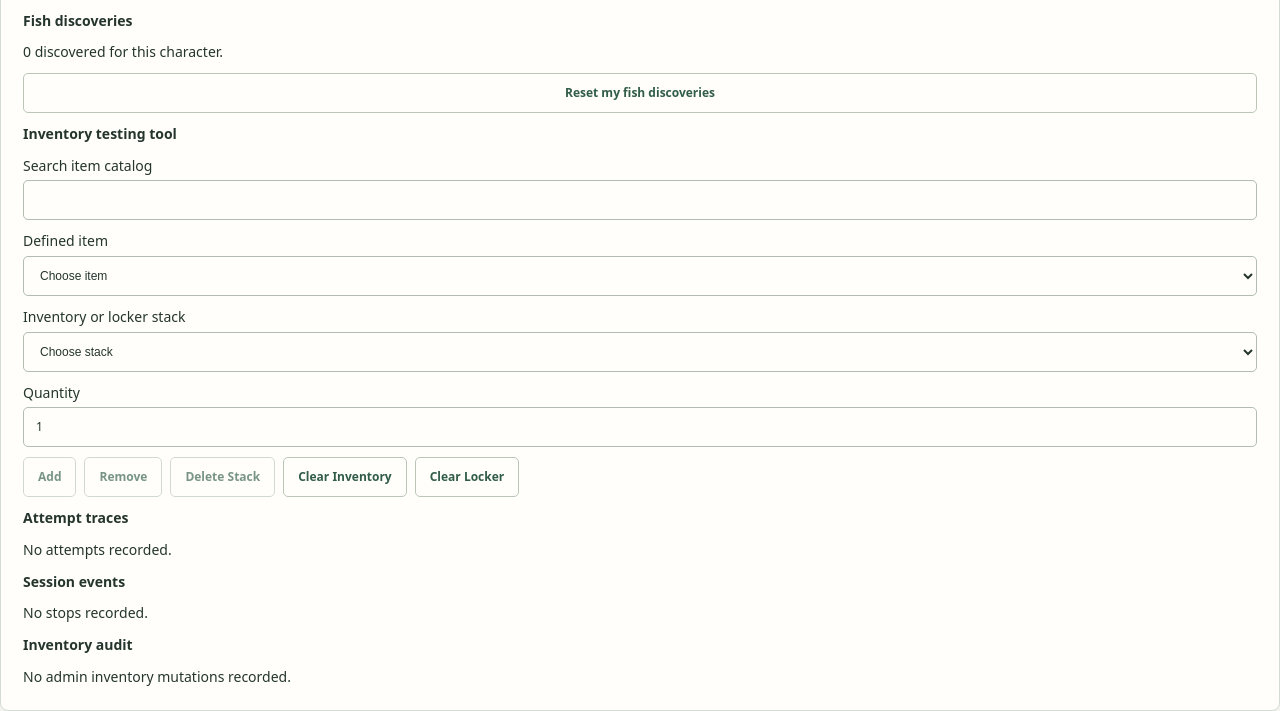
authorized Fishing tools › requires confirmation before clearing only the authorized character locker
The image size is (1280, 711).
(page scrolled)
Click the button "Clear Locker" at [467, 477], box [415,457,519,497]
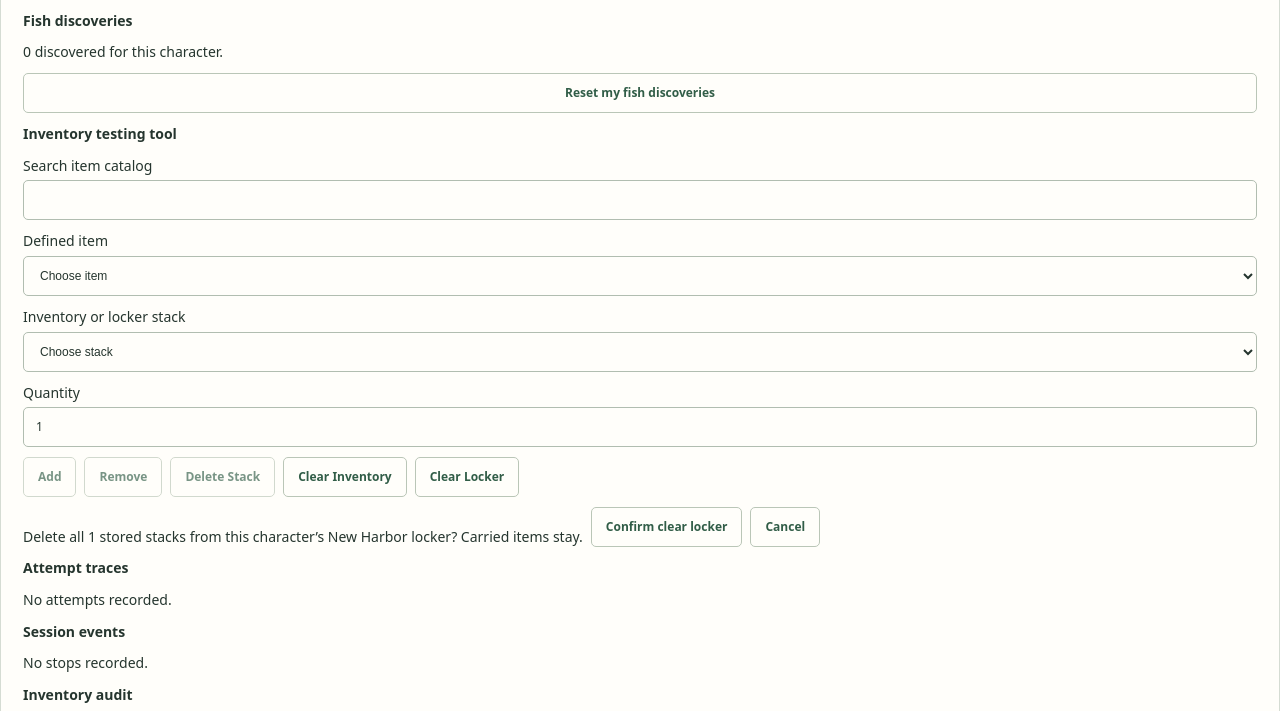
Expected: the element named "Confirm clear locker" shows "Delete all 1 stored stacks", [23,507,820,547]
Click the button "Confirm clear locker" at [667, 527], box [591,507,742,547]
(page scrolled)
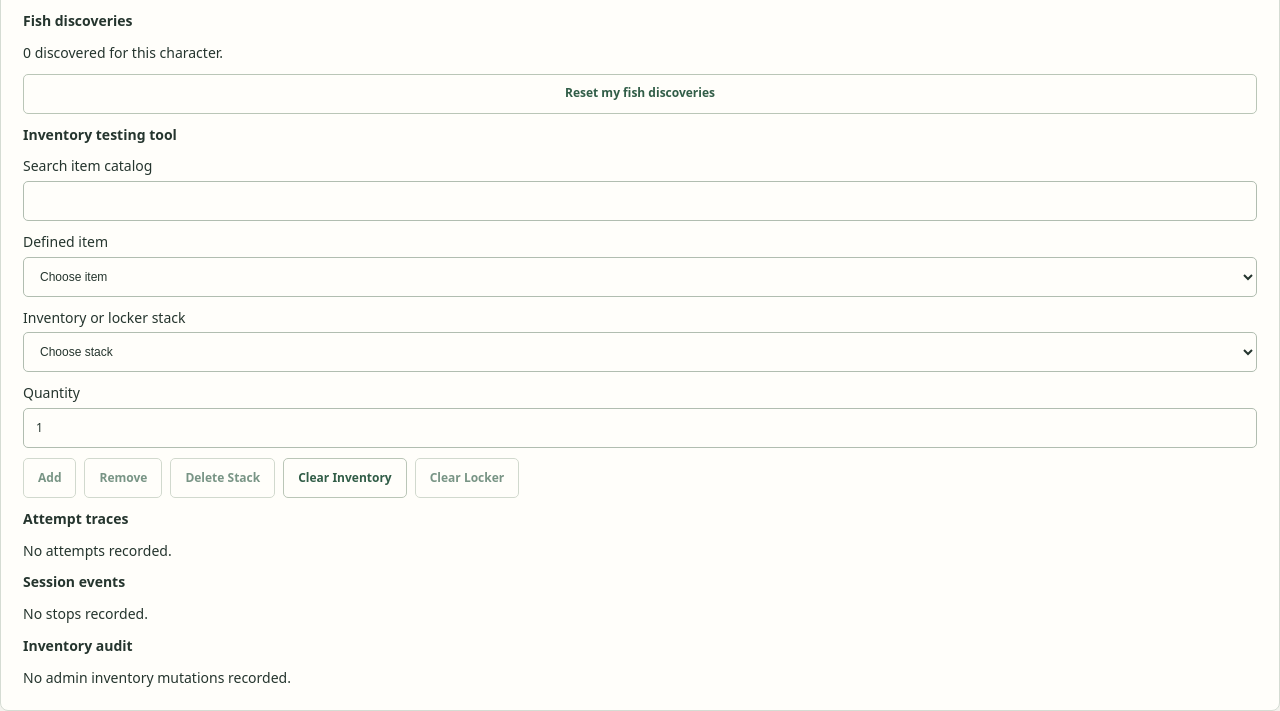
Expected: the button "Clear Locker" is disabled, [415,458,519,498]
